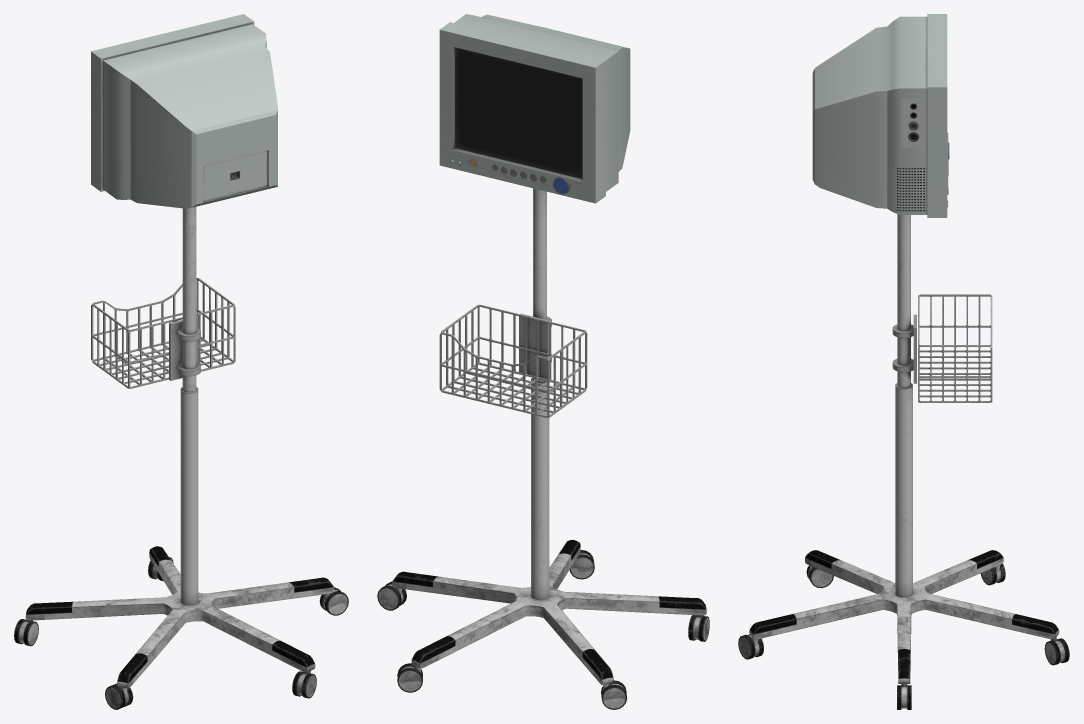
The model's file is heart_monitor.glb.
The picture shows the model from 3 angles, left to right: view 1: azimuth 30°, elevation 25°; view 2: azimuth 150°, elevation 25°; view 3: azimuth 270°, elevation 25°; orthographic projection. The views are drawn at different scales.
Parts seen in each view (by area): view 1: Monitor_heart_monitor_0, Legs_heart_monitor_0, Vertical Pole_heart_monitor_0, Basket_heart_monitor_0, Support Basket_heart_monitor_0; view 2: Monitor_heart_monitor_0, Legs_heart_monitor_0, Basket_heart_monitor_0, Vertical Pole_heart_monitor_0, Support Basket_heart_monitor_0, Button Platform_heart_monitor_0; view 3: Monitor_heart_monitor_0, Legs_heart_monitor_0, Vertical Pole_heart_monitor_0, Basket_heart_monitor_0.
Boxes of the visible parts, x1=… form: Monitor_heart_monitor_0: x1=91, y1=14, x2=277, y2=208; Legs_heart_monitor_0: x1=14, y1=546, x2=348, y2=709; Vertical Pole_heart_monitor_0: x1=180, y1=207, x2=198, y2=605; Basket_heart_monitor_0: x1=91, y1=277, x2=235, y2=388; Support Basket_heart_monitor_0: x1=169, y1=316, x2=198, y2=380; Monitor_heart_monitor_0: x1=439, y1=14, x2=630, y2=203; Legs_heart_monitor_0: x1=377, y1=540, x2=709, y2=709; Basket_heart_monitor_0: x1=439, y1=304, x2=587, y2=417; Vertical Pole_heart_monitor_0: x1=531, y1=188, x2=549, y2=599; Support Basket_heart_monitor_0: x1=519, y1=313, x2=549, y2=378; Button Platform_heart_monitor_0: x1=452, y1=149, x2=582, y2=194; Monitor_heart_monitor_0: x1=812, y1=14, x2=947, y2=217; Legs_heart_monitor_0: x1=738, y1=550, x2=1069, y2=709; Vertical Pole_heart_monitor_0: x1=895, y1=214, x2=912, y2=597; Basket_heart_monitor_0: x1=918, y1=294, x2=992, y2=402.
Size of the model in its own units: 36.82 by 73.69 by 37.61.
1 material, 1 textured.
